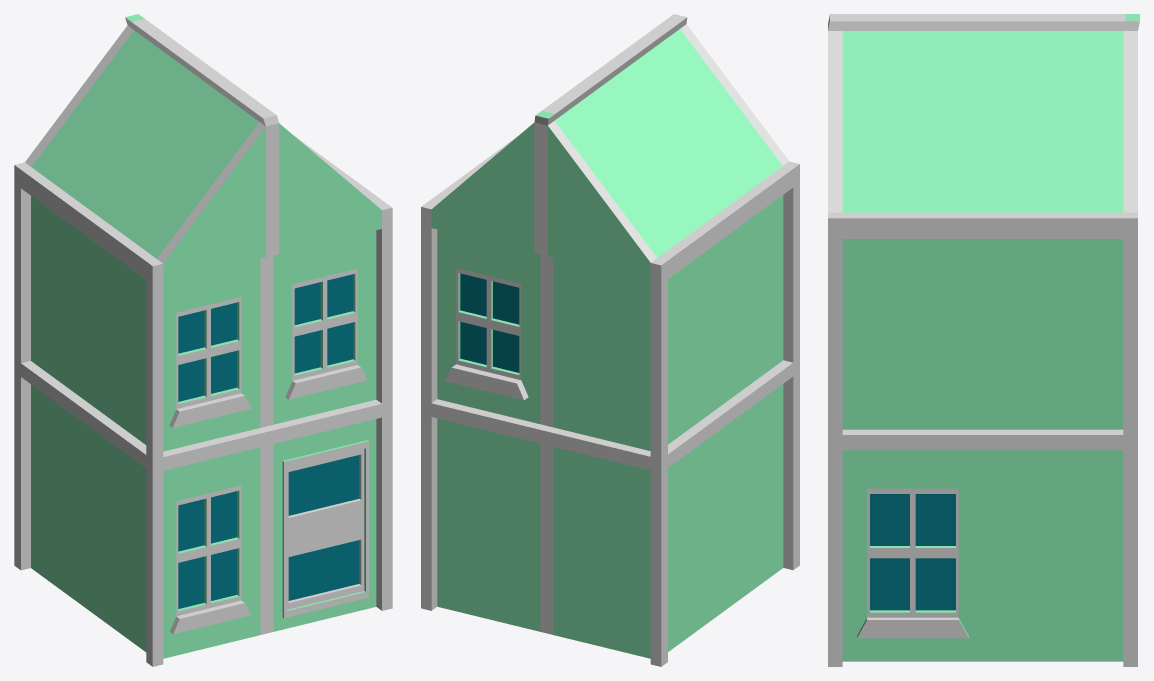
3 renders of one model, left to right at view 1: azimuth 30°, elevation 25°; view 2: azimuth 150°, elevation 25°; view 3: azimuth 270°, elevation 25°, orthographic. The views are drawn at different scales.
Visible parts, largest first — view 1: 1; view 2: 1; view 3: 1.
Part boxes in pixels (<box>): 1: <box>14,14,392,666</box>; 1: <box>421,14,799,666</box>; 1: <box>828,14,1139,666</box>.
Bounding box in the file's own units: 400 × 830 × 402.
